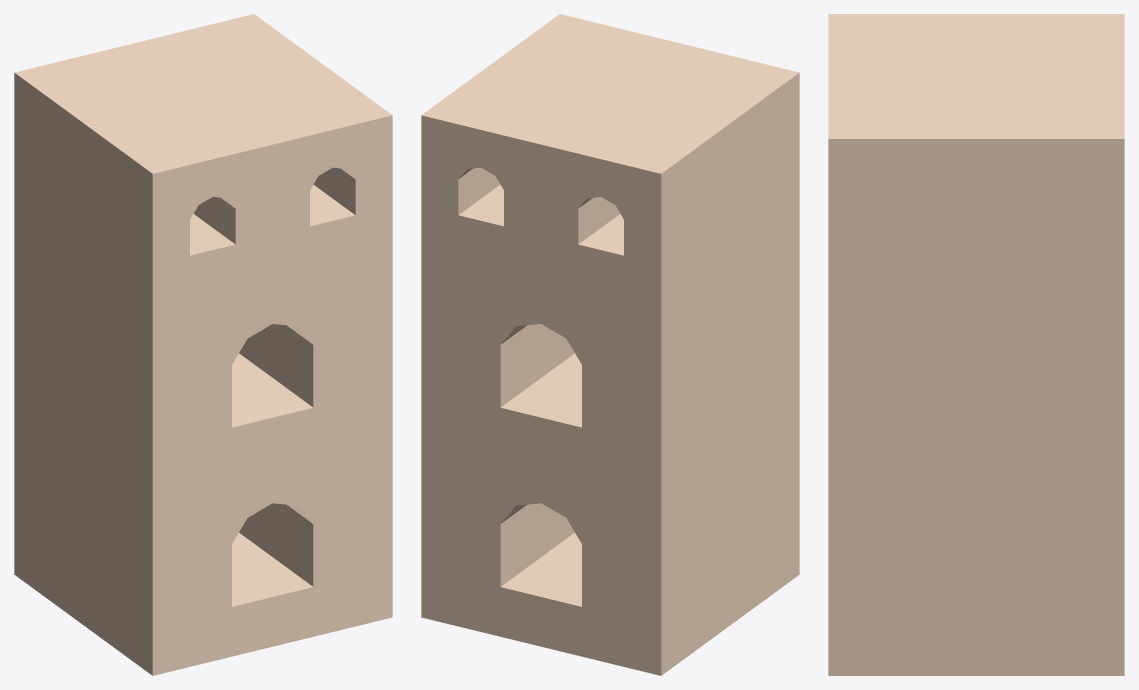
The model's file is Abstract_Castle_Block_Double_MultiArchSmall_Cream_01.fbx.
3 renders of one model, left to right at view 1: azimuth 30°, elevation 25°; view 2: azimuth 150°, elevation 25°; view 3: azimuth 270°, elevation 25°, orthographic. The views are drawn at different scales.
Visible parts, largest first — view 1: Model; view 2: Model; view 3: Model.
Part boxes in pixels (left/top/right/bottom): Model: left=14, top=14, right=392, bottom=675; Model: left=421, top=14, right=799, bottom=675; Model: left=828, top=14, right=1124, bottom=675.
Bounding box in the file's own units: 1000 × 2000 × 1000.
